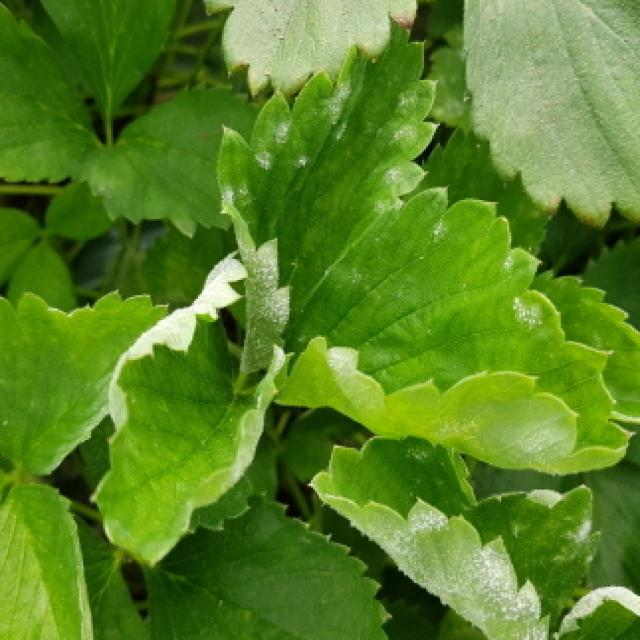Powdery Mildew Leaf: (271, 184, 635, 475), (213, 19, 443, 374), (88, 248, 286, 569), (308, 435, 602, 640)
